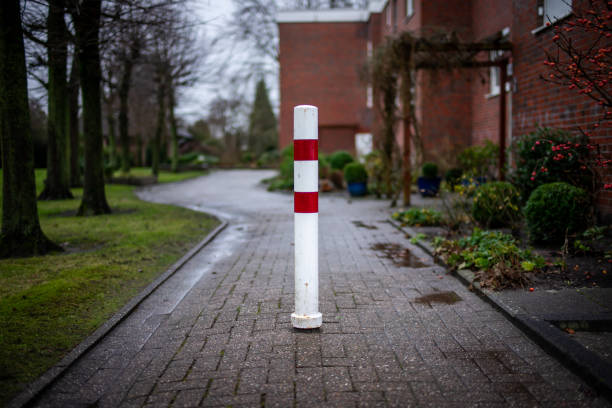bollard: (288, 102, 326, 333)
